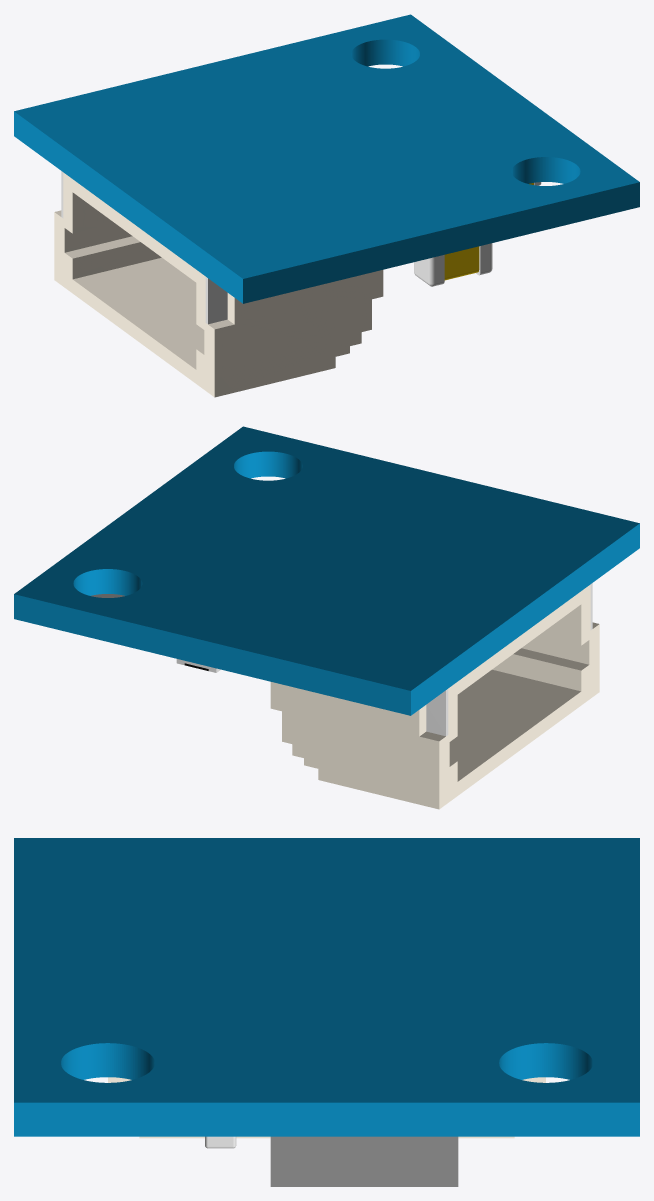
File: Wireling9Axis.glb
The picture shows the model from 3 angles, top to bottom: view 1: azimuth 30°, elevation 25°; view 2: azimuth 150°, elevation 25°; view 3: azimuth 270°, elevation 25°; orthographic projection. The views are drawn at different scales.
Visible parts, largest first — view 1: test.007; view 2: test.007; view 3: test.007.
Part boxes in pixels (x1,y1,x2,y2): test.007: [14, 14, 639, 397]; test.007: [14, 426, 639, 809]; test.007: [14, 838, 639, 1186].
Bounding box in the file's own units: 10 × 3.5 × 10.
